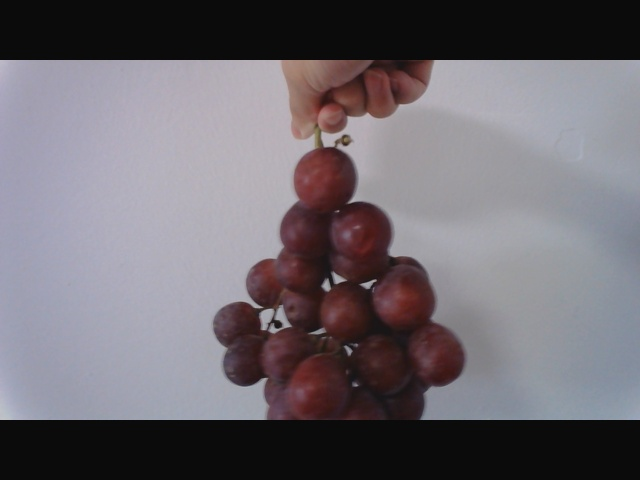grape: (202, 140, 465, 418)
